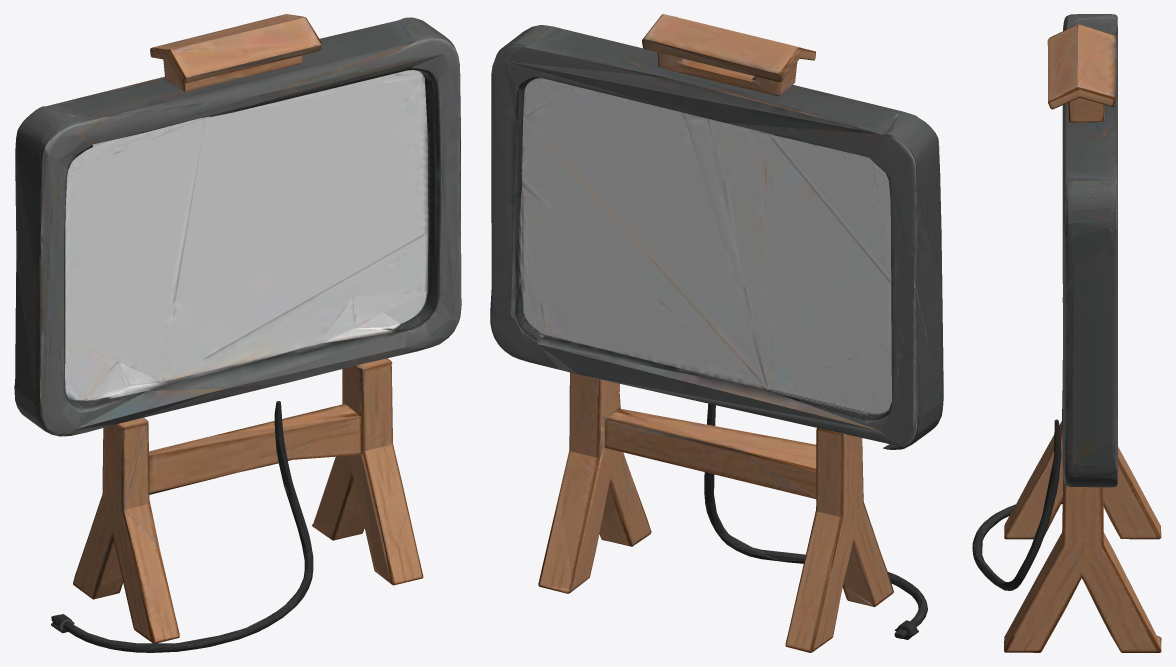
The model's file is screen.glb.
3 renders of one model, left to right at view 1: azimuth 30°, elevation 25°; view 2: azimuth 150°, elevation 25°; view 3: azimuth 270°, elevation 25°, orthographic. The views are drawn at different scales.
Bounding box in the file's own units: 1.52 × 1.9 × 0.614.
Materials: 1 (1 with a texture image).
